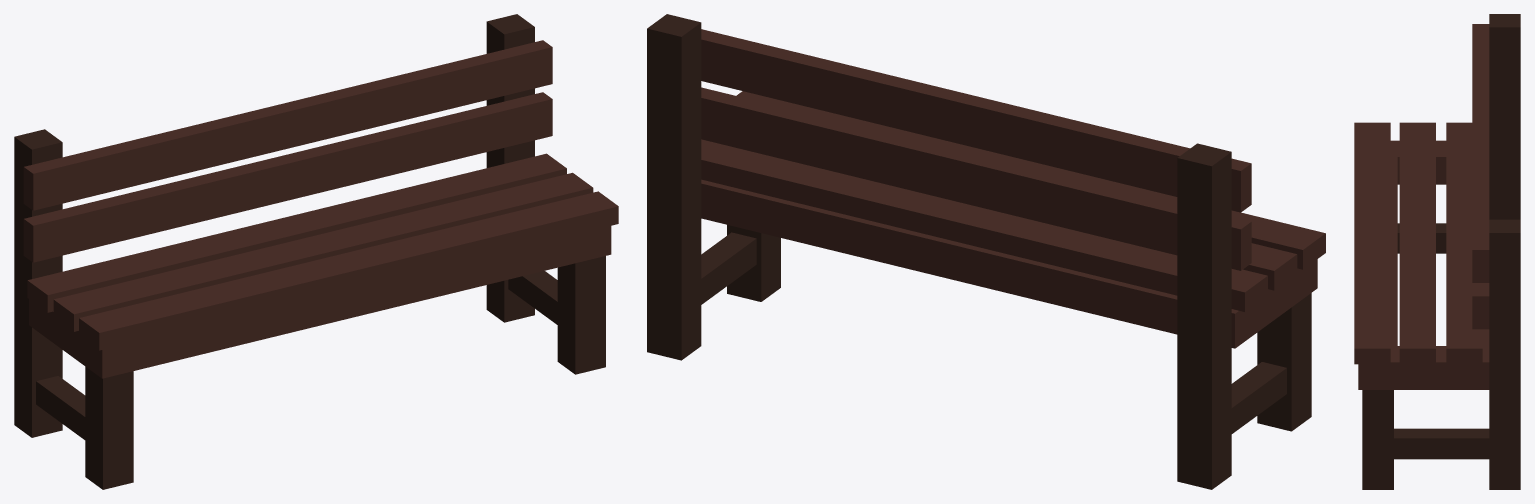
File: bench.fbx
3 views of the same model, side by side, from view 1: azimuth 30°, elevation 25°; view 2: azimuth 150°, elevation 25°; view 3: azimuth 270°, elevation 25° (orthographic). The views are drawn at different scales.
Visible parts, largest first — view 1: bench; view 2: bench; view 3: bench.
Part boxes in pixels (x1,y1,x2,y2): bench: [14, 14, 618, 489]; bench: [647, 14, 1325, 489]; bench: [1354, 14, 1520, 489].
Size of the model in its own units: 187 by 99.35 by 58.32.
Materials: 1 (1 with a texture image).
